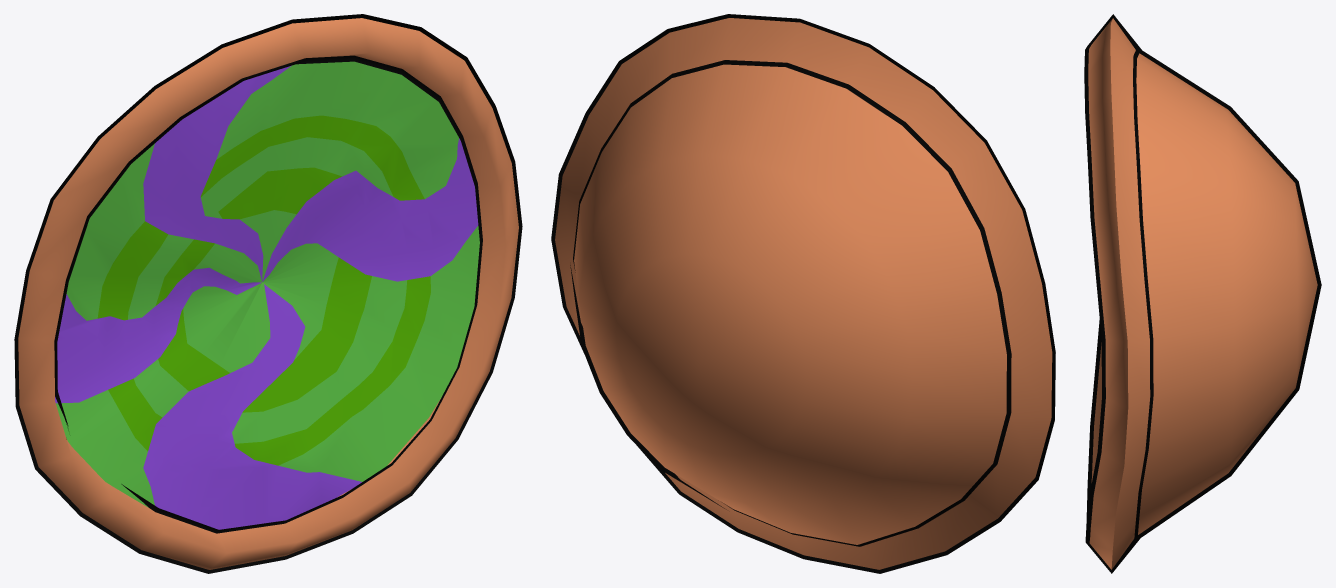
The model's file is Portal.fbx.
The picture shows the model from 3 angles, left to right: view 1: azimuth 30°, elevation 25°; view 2: azimuth 150°, elevation 25°; view 3: azimuth 270°, elevation 25°; orthographic projection. The views are drawn at different scales.
Parts seen in each view (by area): view 1: Portal, Pizza; view 2: Pizza; view 3: Pizza.
Boxes of the visible parts, bbox=[...] form: Portal: bbox=[55, 61, 479, 529]; Pizza: bbox=[14, 14, 522, 573]; Pizza: bbox=[551, 14, 1055, 573]; Pizza: bbox=[1084, 14, 1321, 573].
Bounding box in the file's own units: 2397 × 2439 × 1036.
